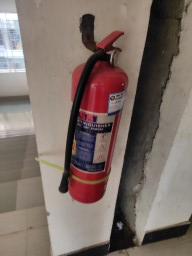fire_extinguisher: (23, 84, 153, 167), (44, 84, 153, 167)
